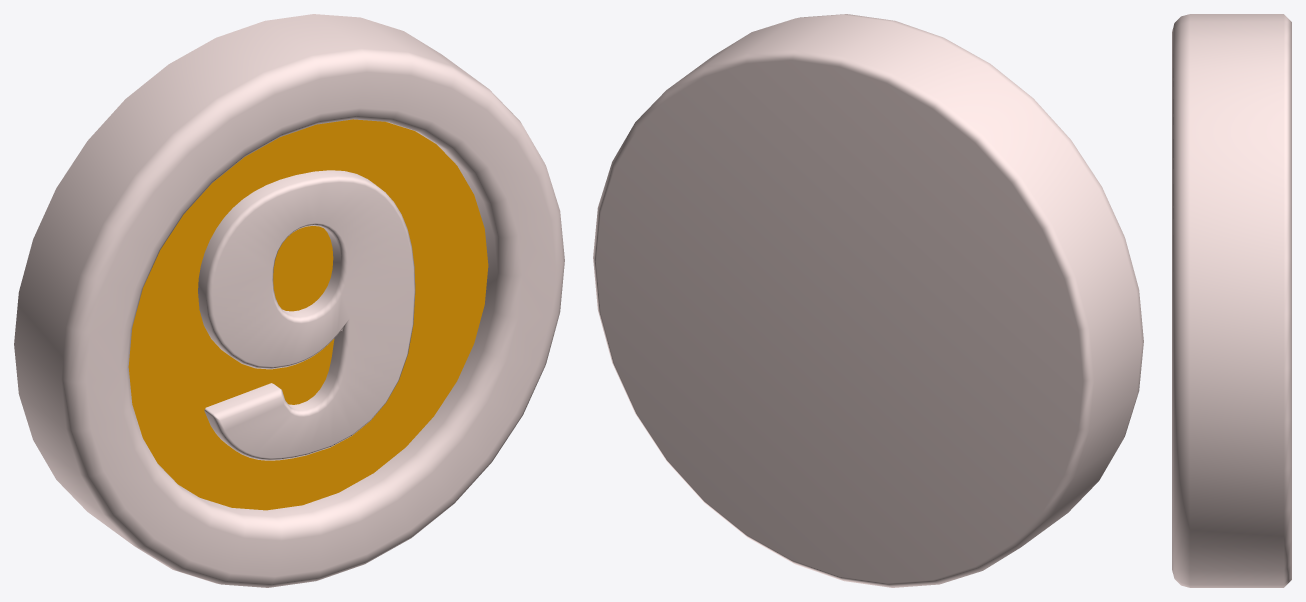
The model's file is City_20_Number_House_9.glb.
The picture shows the model from 3 angles, left to right: view 1: azimuth 30°, elevation 25°; view 2: azimuth 150°, elevation 25°; view 3: azimuth 270°, elevation 25°; orthographic projection.
Parts seen in each view (by area): view 1: City_20_Number_House_9; view 2: City_20_Number_House_9; view 3: City_20_Number_House_9.
Part boxes in pixels (x1,y1,x2,y2): City_20_Number_House_9: [14, 14, 564, 587]; City_20_Number_House_9: [593, 14, 1143, 587]; City_20_Number_House_9: [1172, 14, 1291, 587].
Bounding box in the file's own units: 0.5101 × 0.5101 × 0.1065.
1 material, 1 textured.
